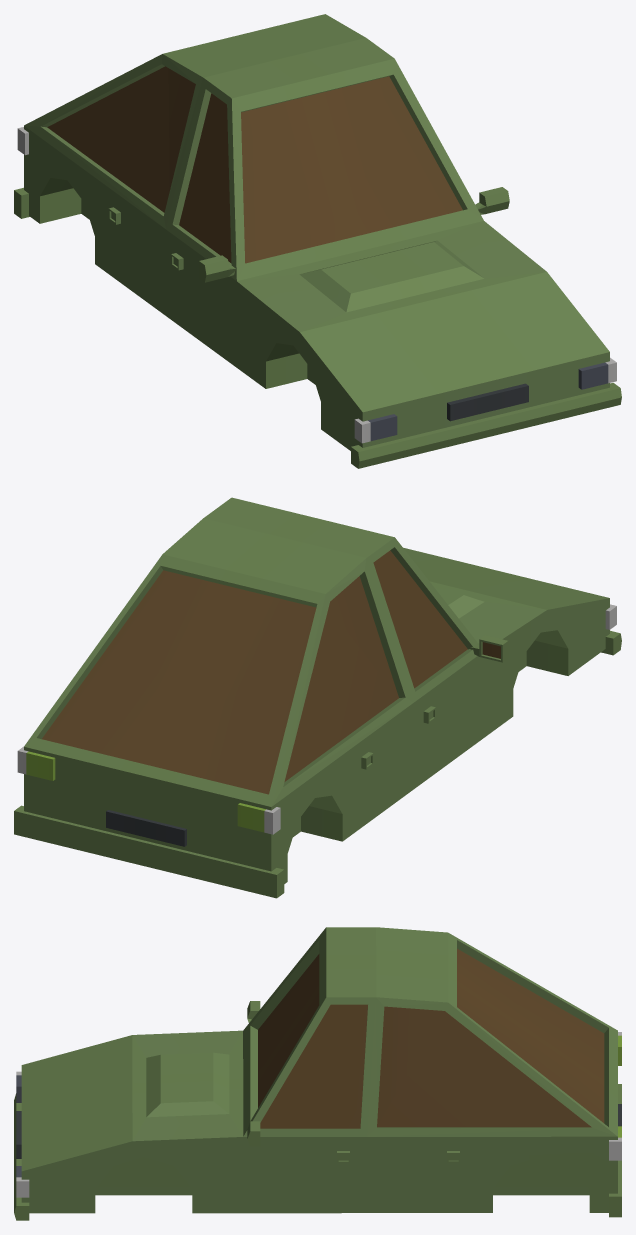
File: Car_21.fbx
The picture shows the model from 3 angles, top to bottom: view 1: azimuth 30°, elevation 25°; view 2: azimuth 150°, elevation 25°; view 3: azimuth 270°, elevation 25°; orthographic projection. The views are drawn at different scales.
Parts seen in each view (by area): view 1: Car_21; view 2: Car_21; view 3: Car_21.
Part boxes in pixels (x1,y1,x2,y2): Car_21: [14, 14, 621, 468]; Car_21: [14, 497, 621, 898]; Car_21: [14, 927, 621, 1220].
Bounding box in the file's own units: 1.97 × 1.42 × 3.88.
